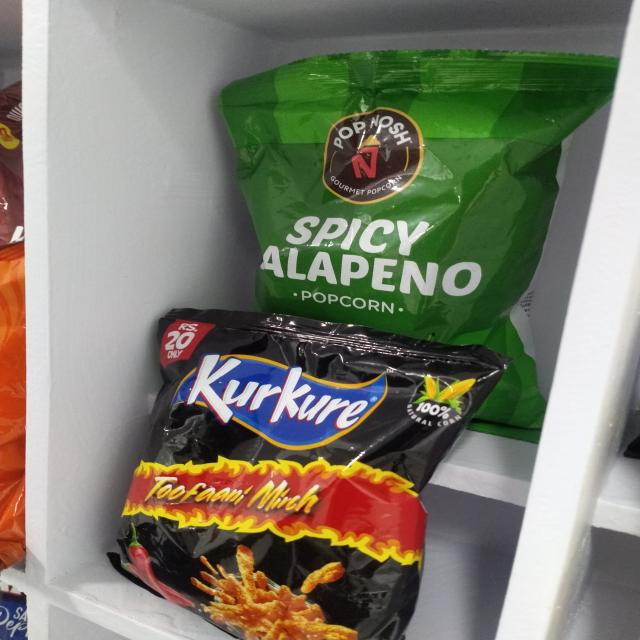Plastic: (119, 328, 478, 640), (224, 49, 610, 320)
